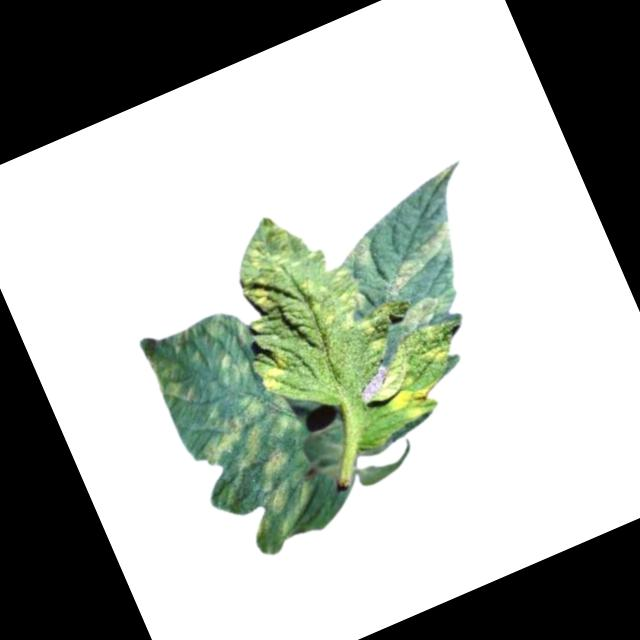Leaf_Mold: (193, 383, 340, 563), (214, 197, 368, 363), (164, 303, 264, 401), (369, 221, 467, 300), (380, 366, 451, 429), (388, 284, 461, 343), (136, 343, 195, 413), (252, 350, 296, 394)
